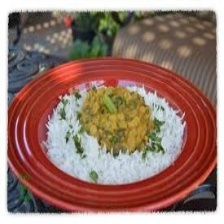rice: (42, 128, 183, 186)
